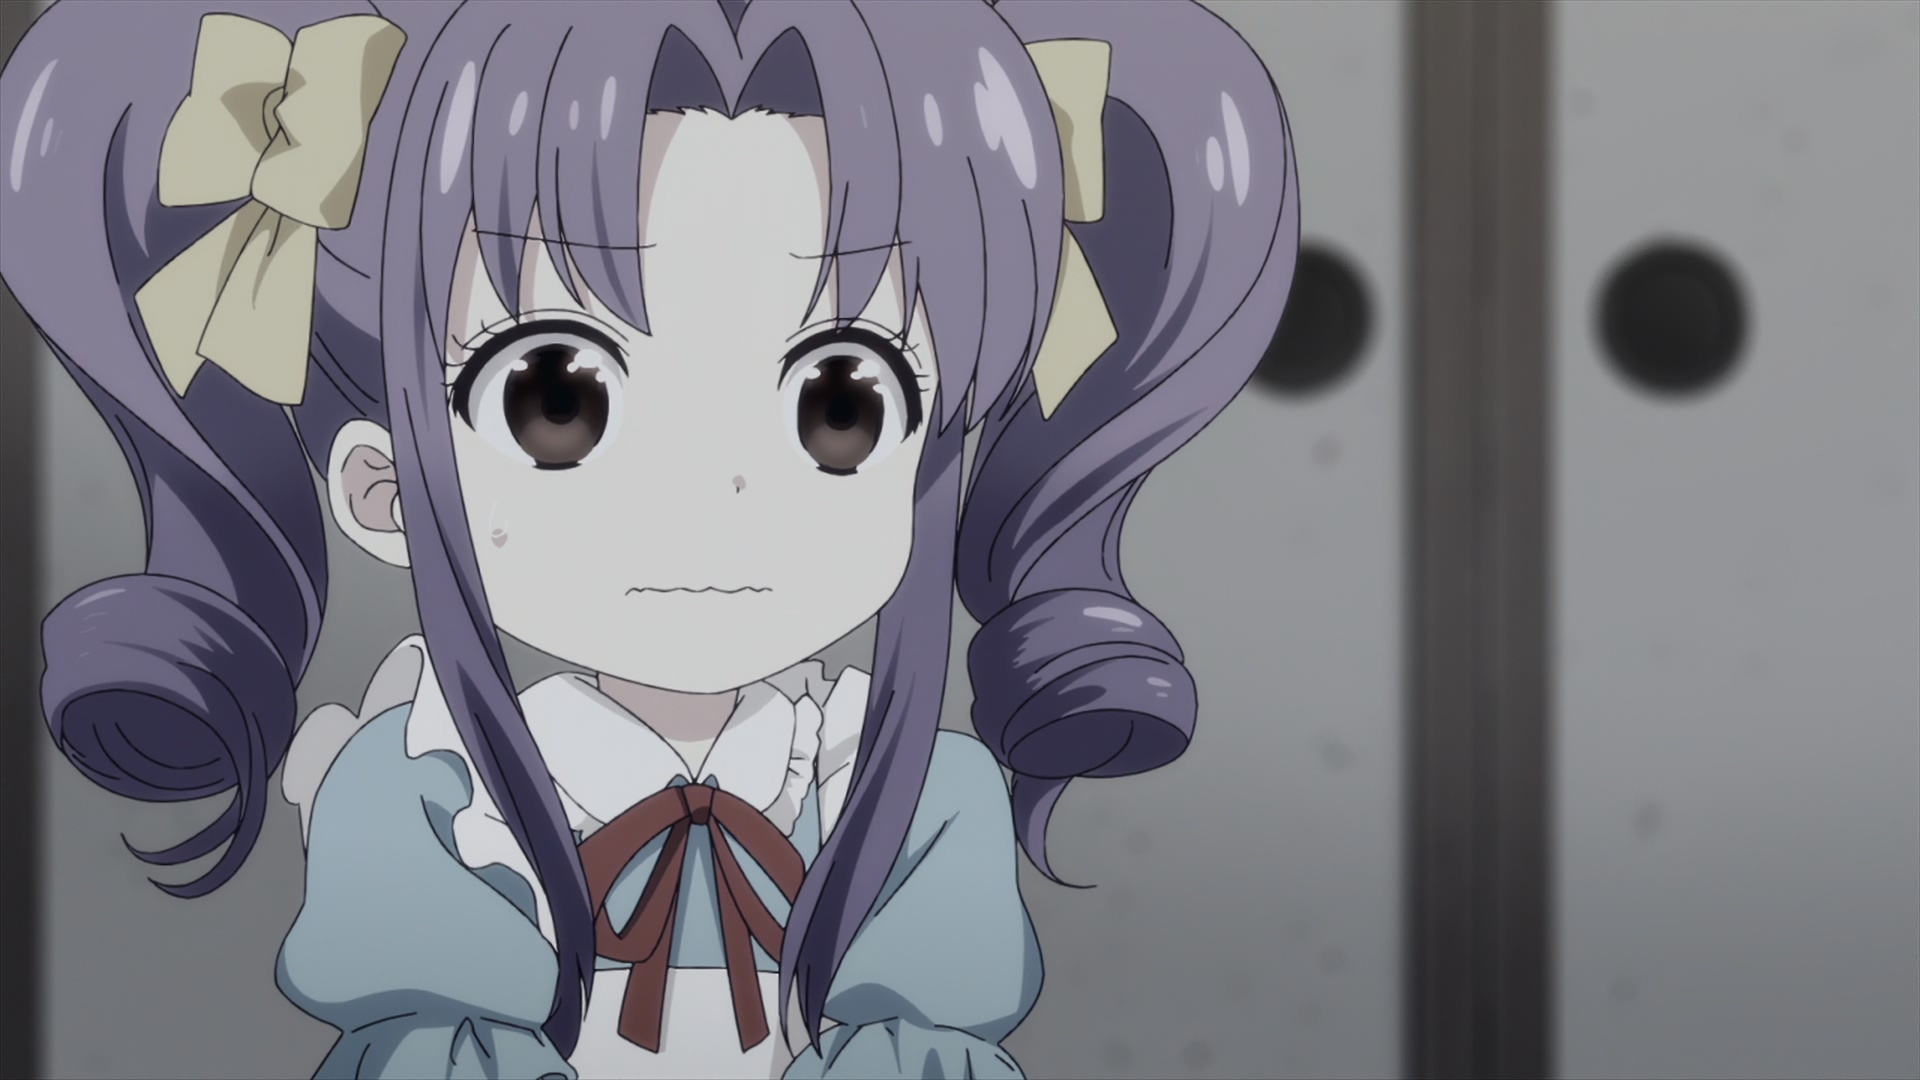阿菊: (1, 1, 1300, 1080)
